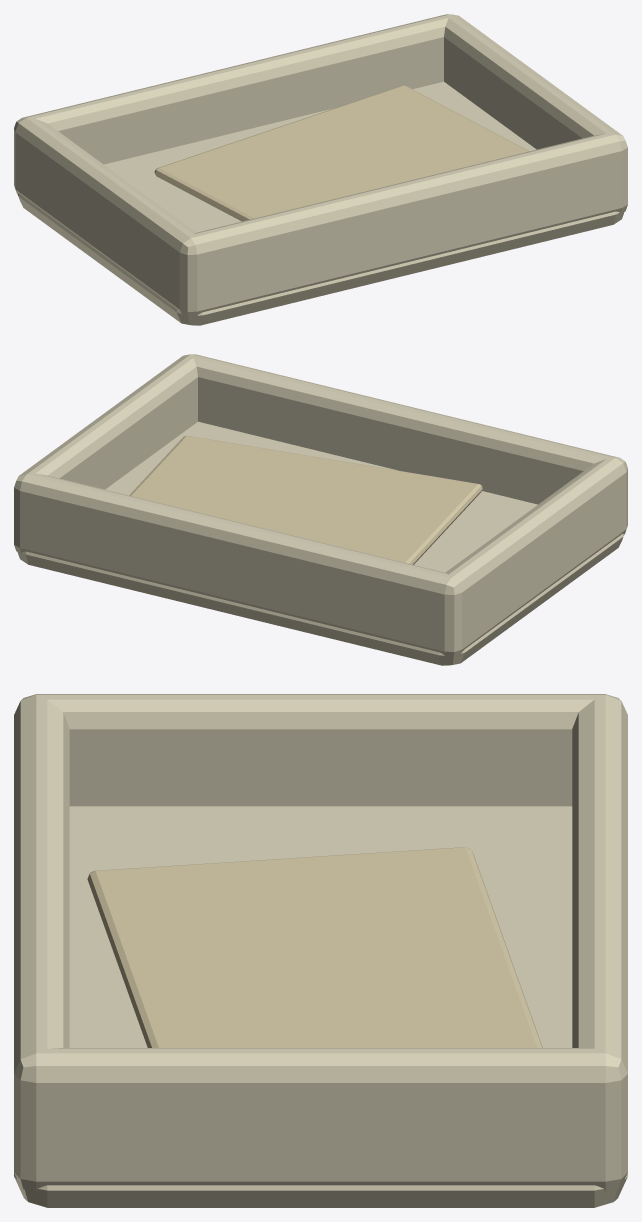
File: Tray_Food.glb
3 views of the same model, one above another, from view 1: azimuth 30°, elevation 25°; view 2: azimuth 150°, elevation 25°; view 3: azimuth 270°, elevation 25° (orthographic). The views are drawn at different scales.
Parts seen in each view (by area): view 1: Litter; view 2: Litter; view 3: Litter.
Part boxes in pixels (bbox=[...]): Litter: bbox=[14, 14, 627, 325]; Litter: bbox=[14, 354, 627, 665]; Litter: bbox=[14, 694, 627, 1207].
Size of the model in its own units: 0.32 by 0.0625 by 0.22.
